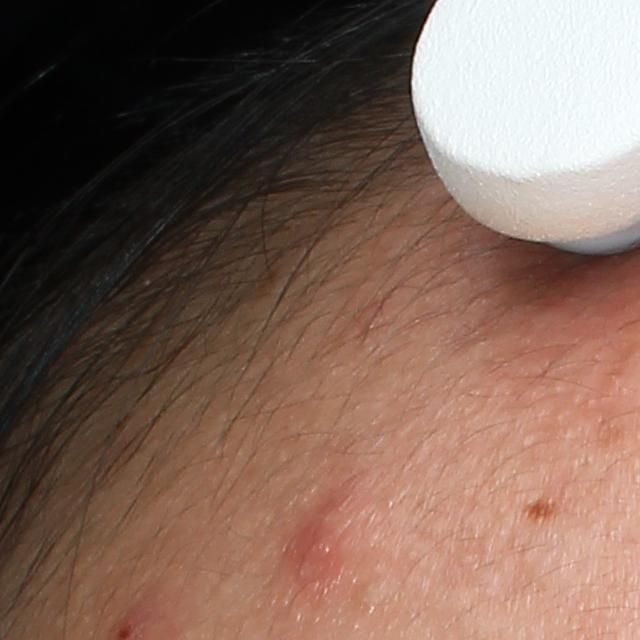comedo: (354, 576, 396, 615)
nevus: (523, 496, 558, 520)
papule: (292, 526, 338, 611)
